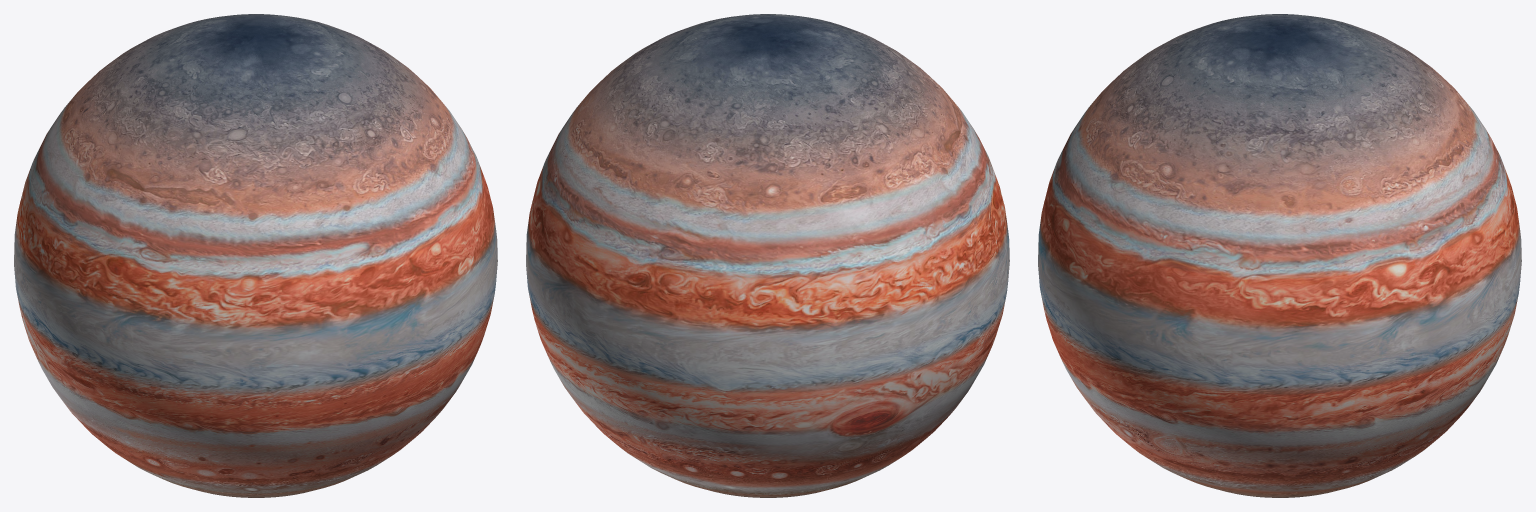
File: jupiter.glb
3 views of the same model, side by side, from view 1: azimuth 30°, elevation 25°; view 2: azimuth 150°, elevation 25°; view 3: azimuth 270°, elevation 25° (orthographic).
Parts seen in each view (by area): view 1: Jupiter; view 2: Jupiter; view 3: Jupiter.
Boxes of the visible parts, x1,y1,x2,y2 form: Jupiter: [14, 14, 497, 497]; Jupiter: [526, 14, 1009, 497]; Jupiter: [1038, 14, 1521, 497].
Size of what is drawn, in the model's own units: 19.99 by 20 by 19.98.
1 material, 1 textured.
